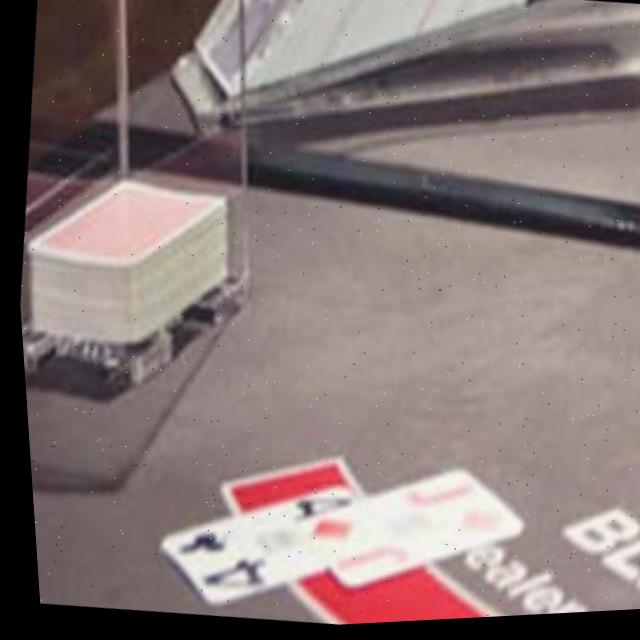Card-4: (155, 489, 351, 606)
Card-J: (288, 470, 517, 591)
